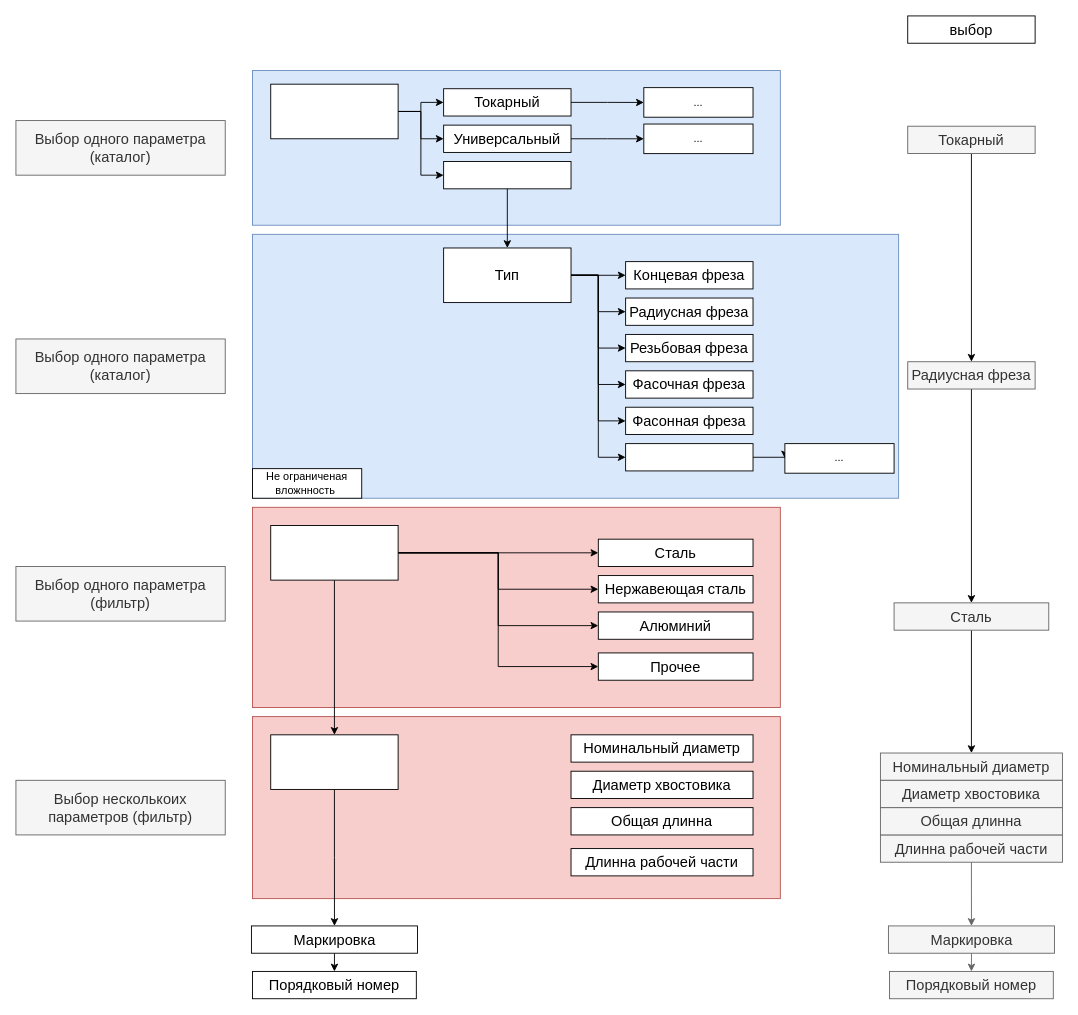
Some shapes in this 1078 by 1015 pixel diagram are drawn without their labels. The centre of each missing label's shape, as x and y in pixels:
Класс инструмента: pixel 334 111
Корпусная фреза: pixel 689 457
Применяемость: pixel 334 552
Фрезерный: pixel 507 175
Характеристики: pixel 334 761
